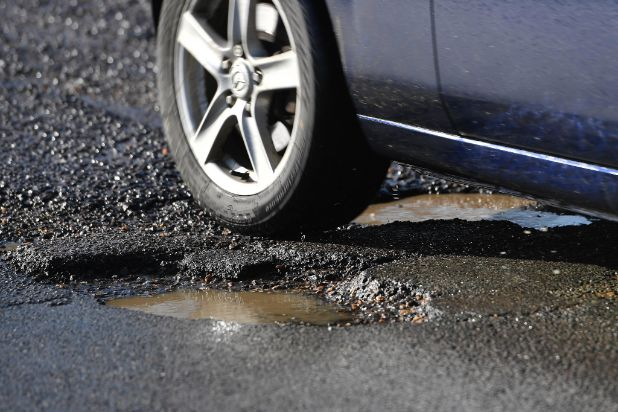pothole: (26, 242, 443, 335)
